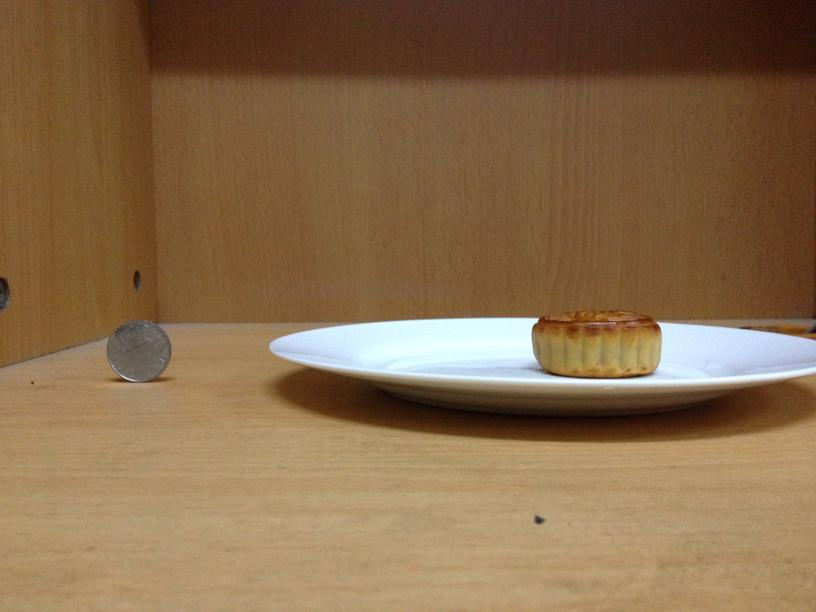coin: (105, 321, 171, 381)
mooncake: (530, 308, 662, 375)
